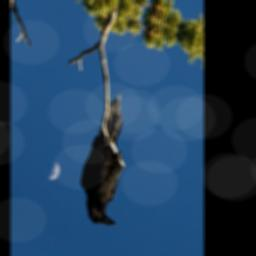Crow: (71, 84, 147, 233)
